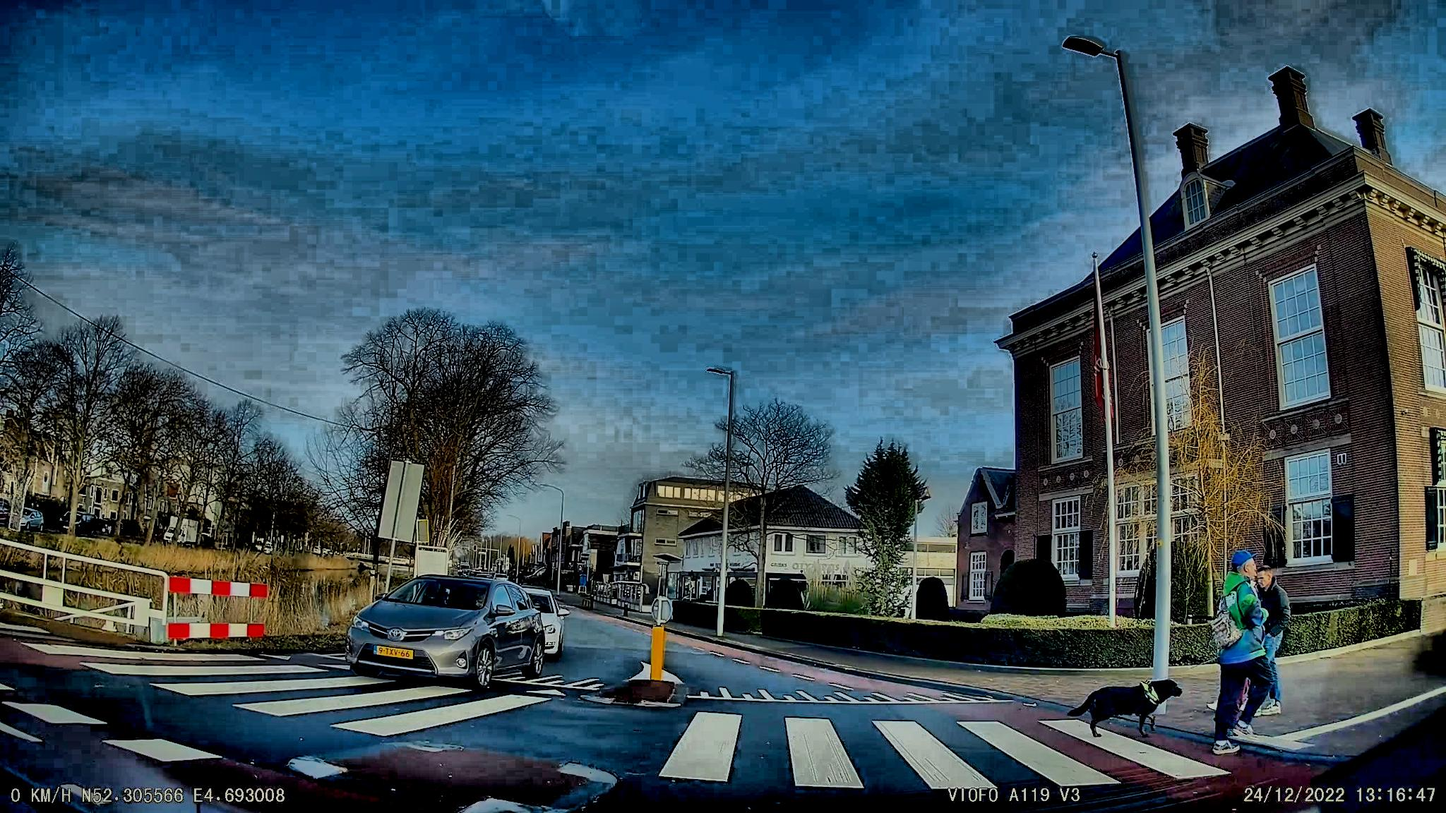Roads: (0, 619, 1241, 813)
